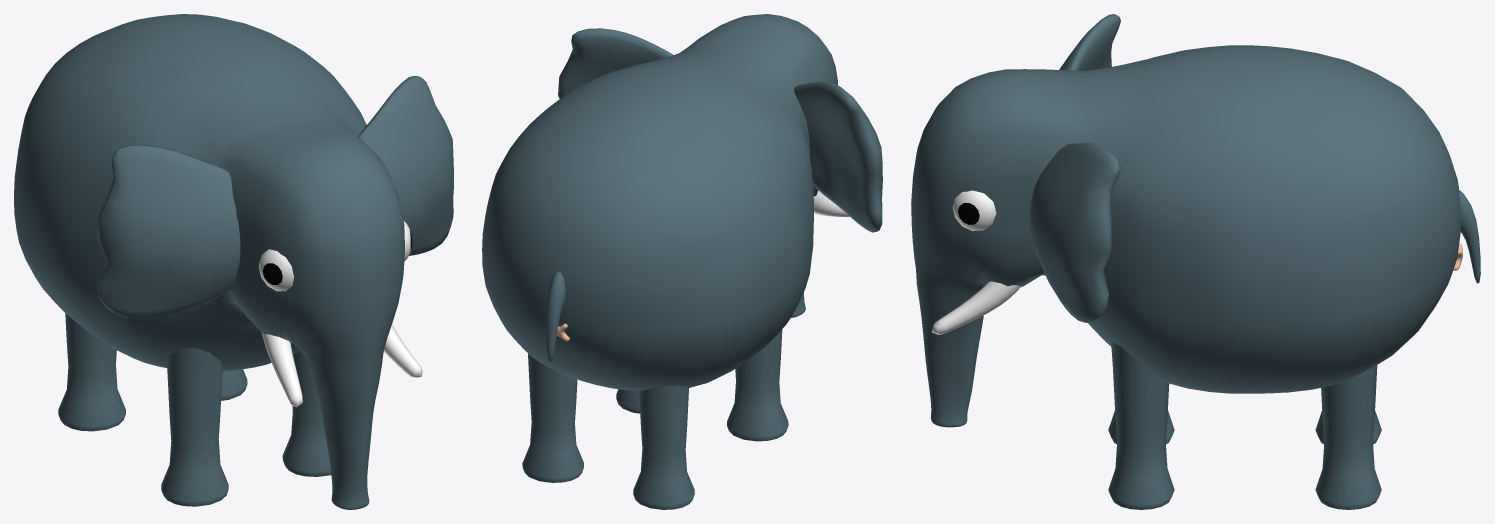
File: Voi.fbx
The picture shows the model from 3 angles, left to right: view 1: azimuth 30°, elevation 25°; view 2: azimuth 150°, elevation 25°; view 3: azimuth 270°, elevation 25°; orthographic projection. The views are drawn at different scales.
Visible parts, largest first — view 1: Voi; view 2: Voi; view 3: Voi.
Boxes of the visible parts, x1,y1,x2,y2 form: Voi: (14,14,453,509); Voi: (482,14,882,509); Voi: (911,14,1480,509).
Size of the model in its own units: 285 by 306 by 392.
